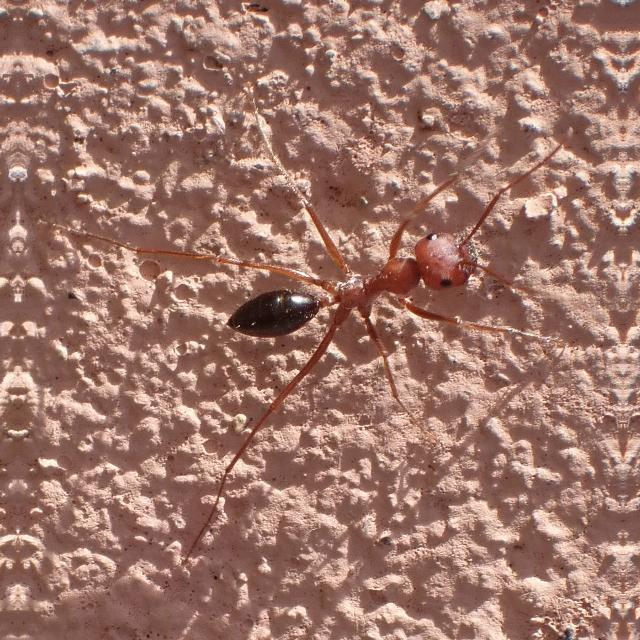Cataglyphis: (218, 180, 514, 382)
